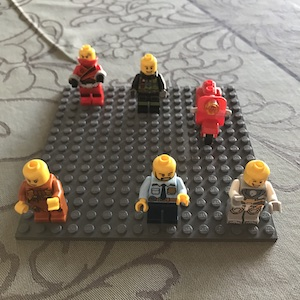Lego: (225, 160, 282, 231), (134, 153, 189, 226), (15, 157, 68, 226), (69, 44, 105, 105), (131, 52, 165, 114)
